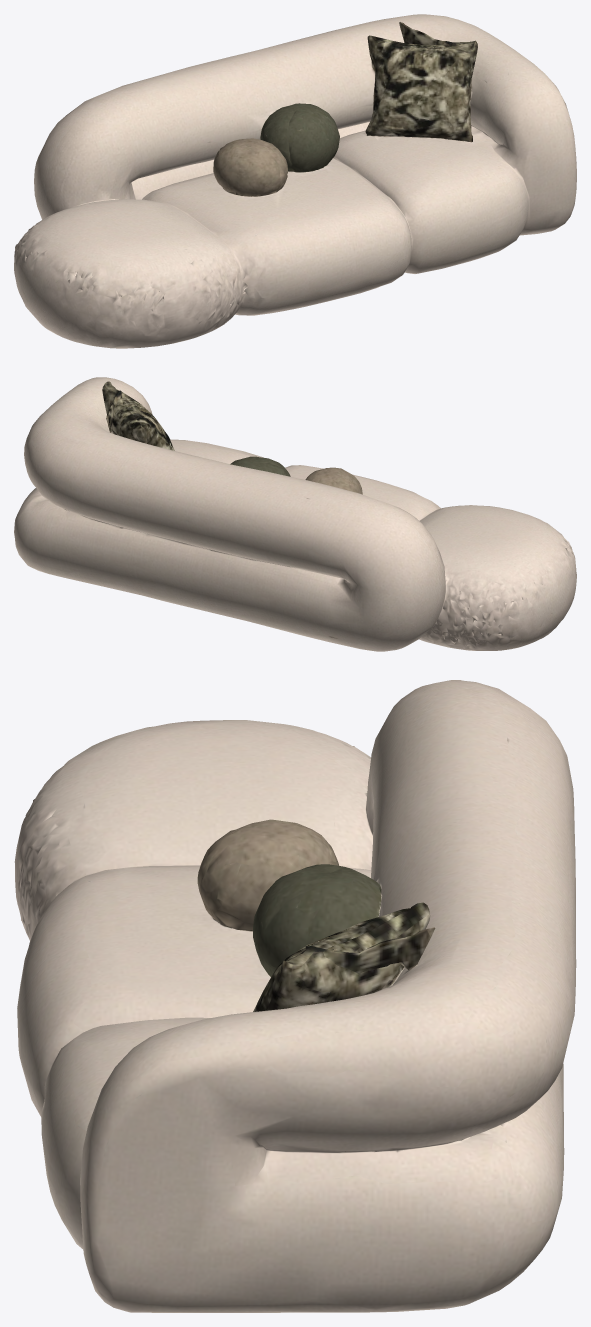
The model's file is main-sofa-organic-cream-boucle-35k.glb.
The picture shows the model from 3 angles, top to bottom: view 1: azimuth 30°, elevation 25°; view 2: azimuth 150°, elevation 25°; view 3: azimuth 270°, elevation 25°; orthographic projection. The views are drawn at different scales.
Visible parts, largest first — view 1: world; view 2: world; view 3: world.
Part boxes in pixels (<box>): world: <box>14,14,576,348</box>; world: <box>14,377,576,651</box>; world: <box>14,680,576,1312</box>.
Size of the model in its own units: 1 by 0.3141 by 0.4989.
Materials: 1 (1 with a texture image).
